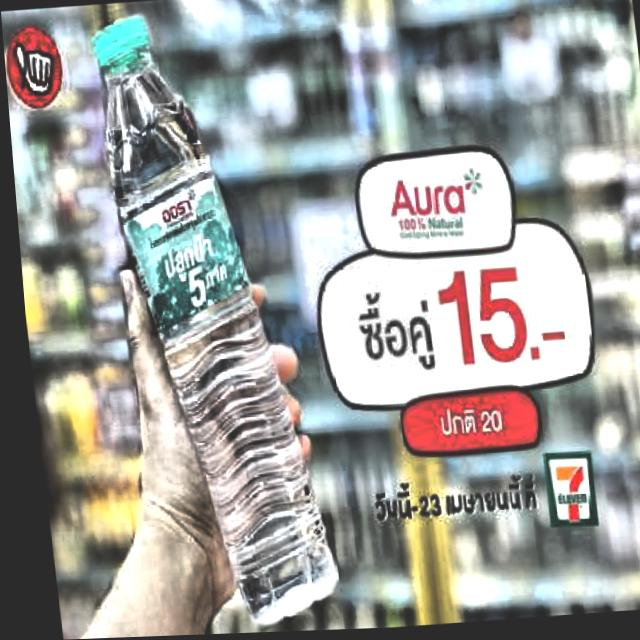Bottles: (61, 6, 344, 638)
